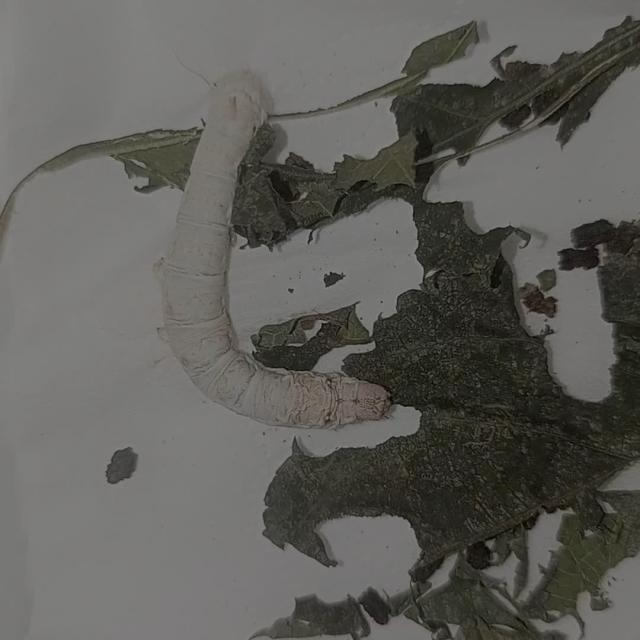Healthy: (157, 51, 404, 465)
